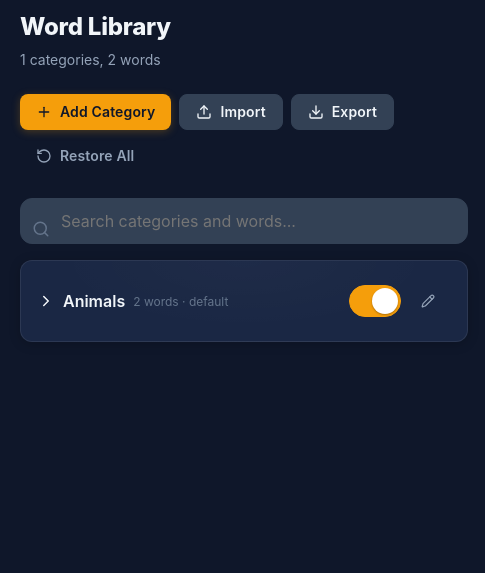
WordLibraryScreen › adds a new word to an expanded category
Step 1. Click the button with aria-label "Expand Animals" → (181, 301), box [37, 291, 325, 311]
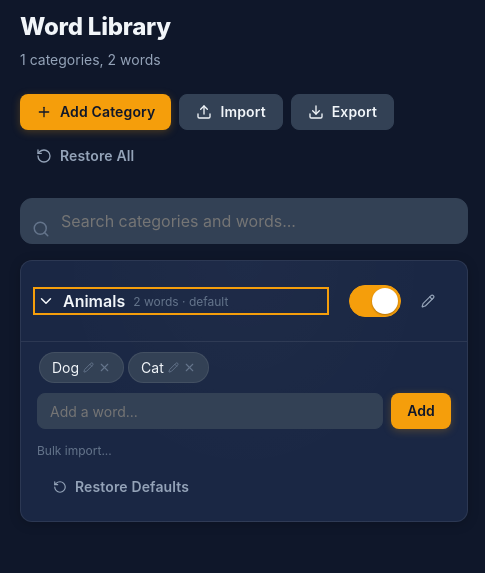
Step 2. Type "Elephant" into the field with placeholder "Add a word..." → (210, 411), box [37, 393, 383, 429]
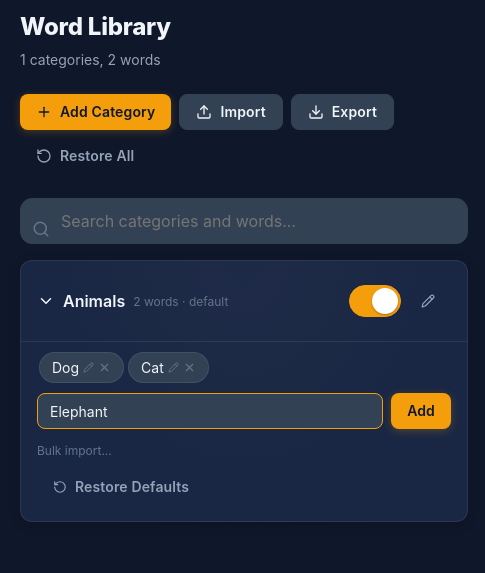
Step 3. Click the button "Add" → (421, 411), box [391, 393, 451, 429]
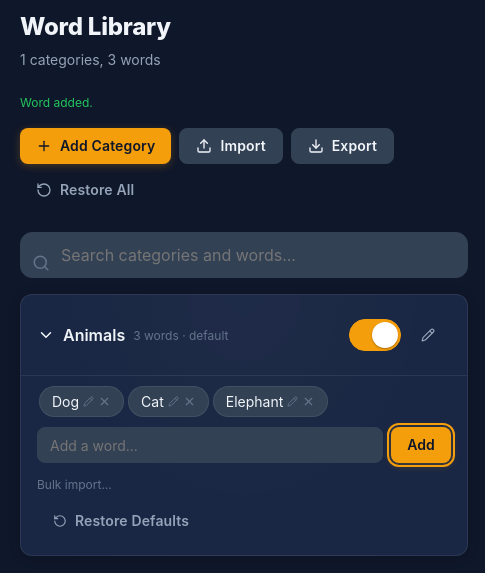
Expected: the text "Elephant" is shown, [213, 386, 328, 417]
